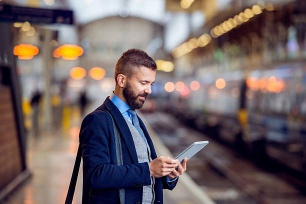male: (111, 54, 164, 115)
